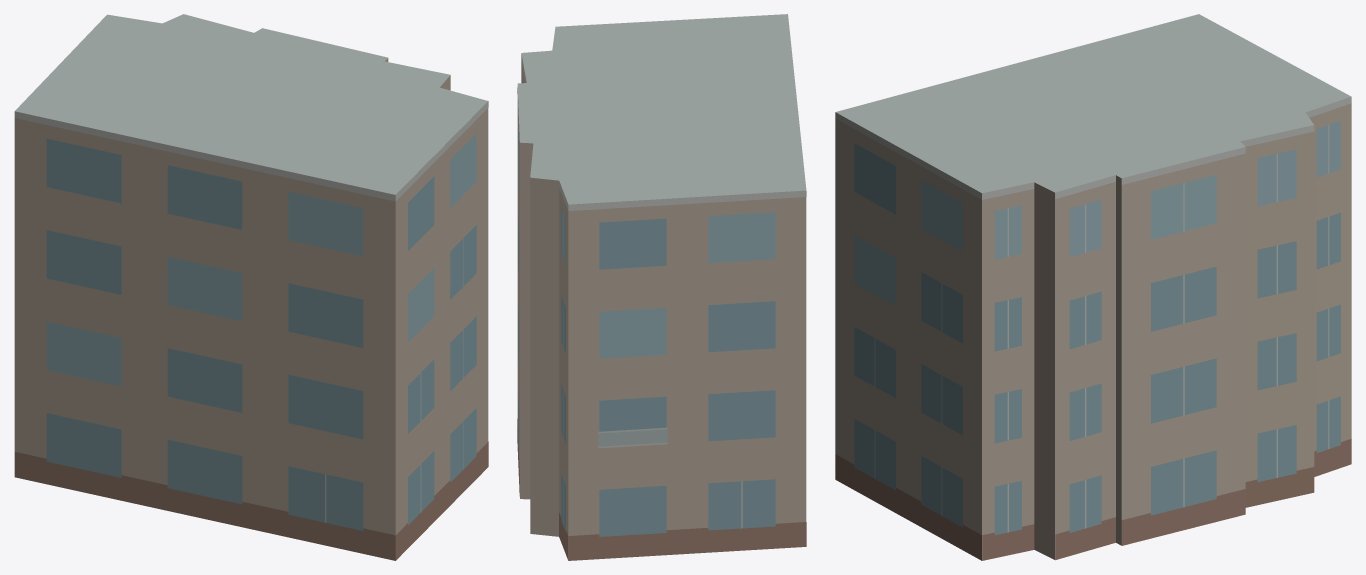
The model's file is survey-upis-32750906.glb.
3 renders of one model, left to right at view 1: azimuth 30°, elevation 25°; view 2: azimuth 150°, elevation 25°; view 3: azimuth 270°, elevation 25°, orthographic. The views are drawn at different scales.
Visible parts, largest first — view 1: survey-upis-32750906.tmp; view 2: survey-upis-32750906.tmp; view 3: survey-upis-32750906.tmp.
Boxes of the visible parts, left/top/right/bottom form: survey-upis-32750906.tmp: left=14, top=14, right=488, bottom=560; survey-upis-32750906.tmp: left=517, top=14, right=806, bottom=560; survey-upis-32750906.tmp: left=835, top=14, right=1351, bottom=560.
Size of the model in its own units: 14.13 by 13.5 by 17.19.
